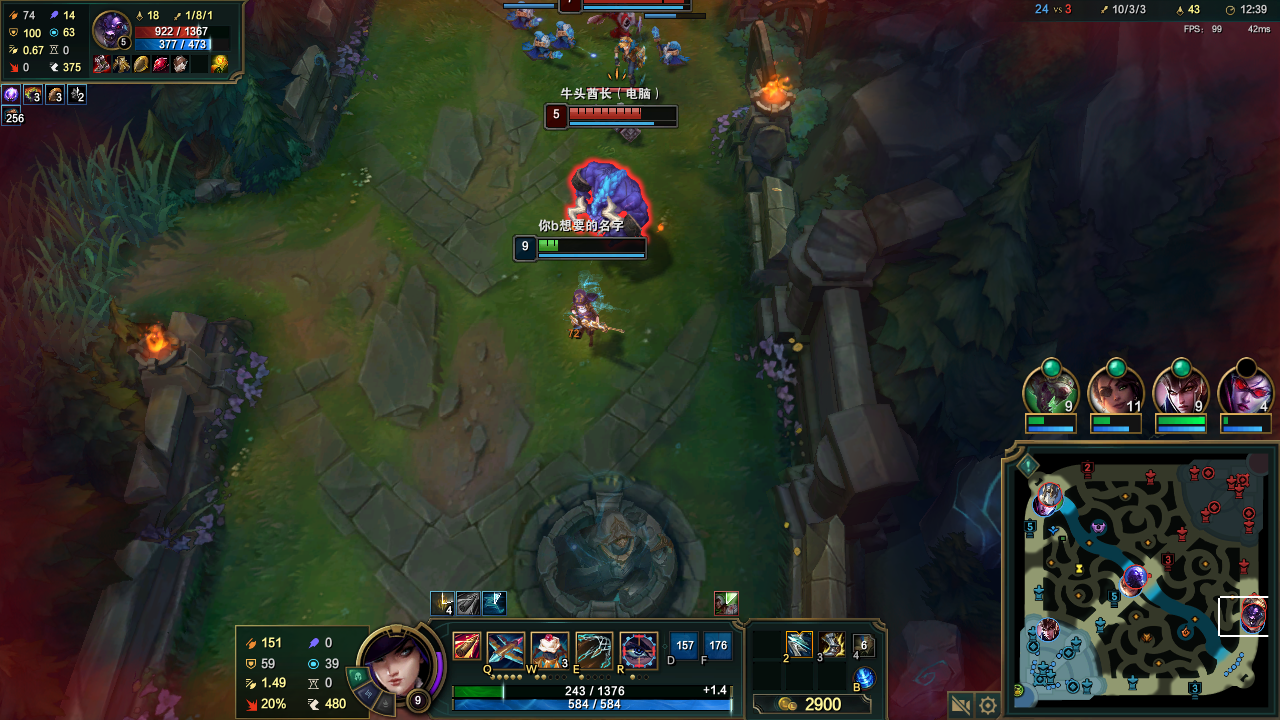DFYX: (564, 107, 665, 120)
WFXB: (525, 31, 556, 64), (505, 4, 542, 28), (554, 20, 579, 49), (659, 42, 686, 64)
